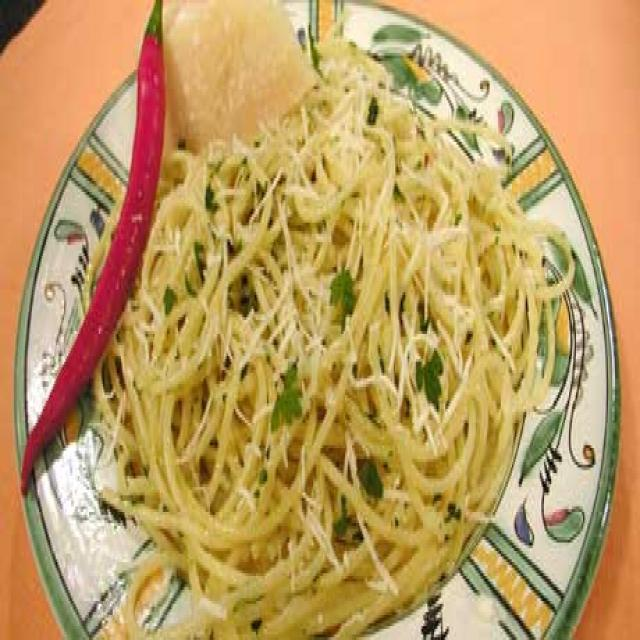Oil pasta: (209, 95, 558, 515)
